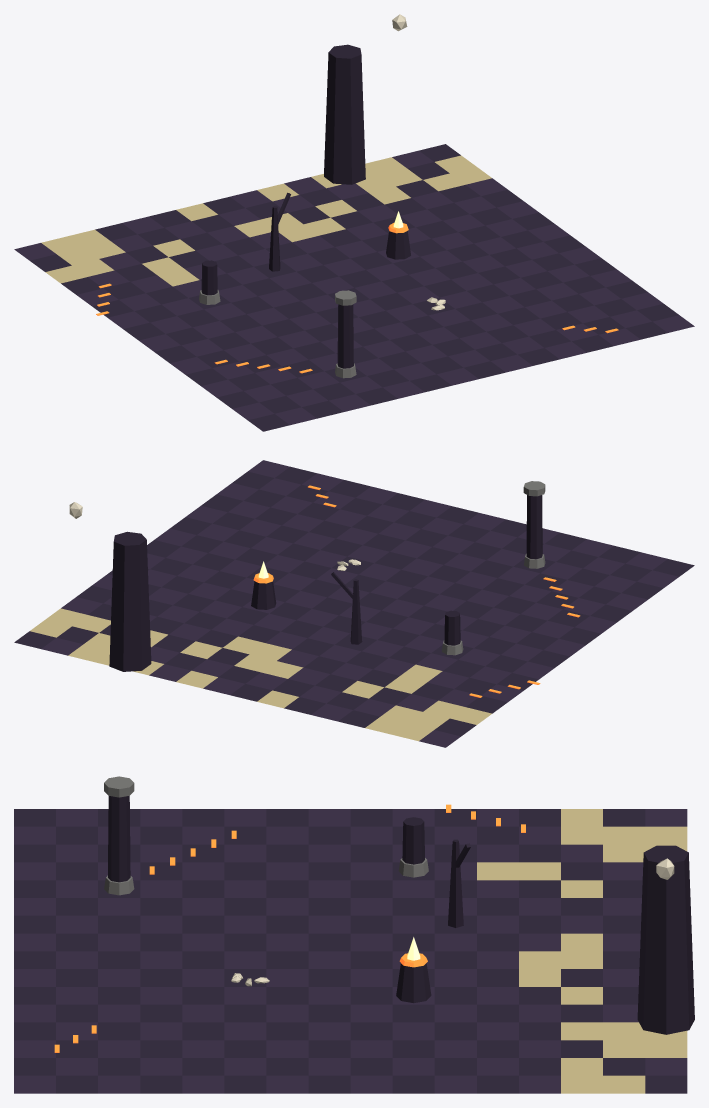
File: chunk_5_22.glb
The picture shows the model from 3 angles, top to bottom: view 1: azimuth 30°, elevation 25°; view 2: azimuth 150°, elevation 25°; view 3: azimuth 270°, elevation 25°; orthographic projection. The views are drawn at different scales.
Visible parts, largest first — view 1: chunk_5_22; view 2: chunk_5_22; view 3: chunk_5_22.
Part boxes in pixels (x1,y1,x2,y2): chunk_5_22: (14,14,694,431); chunk_5_22: (14,460,694,747); chunk_5_22: (14,776,694,1093).
Size of the model in its own units: 16.2 by 5.35 by 16.18.
